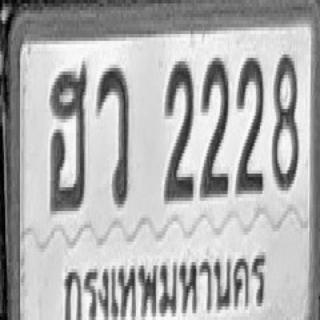A37: (96, 65, 129, 204)
A44: (49, 61, 87, 211)
N02: (199, 55, 229, 194), (164, 56, 193, 199), (235, 53, 263, 192)
N08: (271, 50, 298, 189)
P04: (59, 242, 271, 320)
